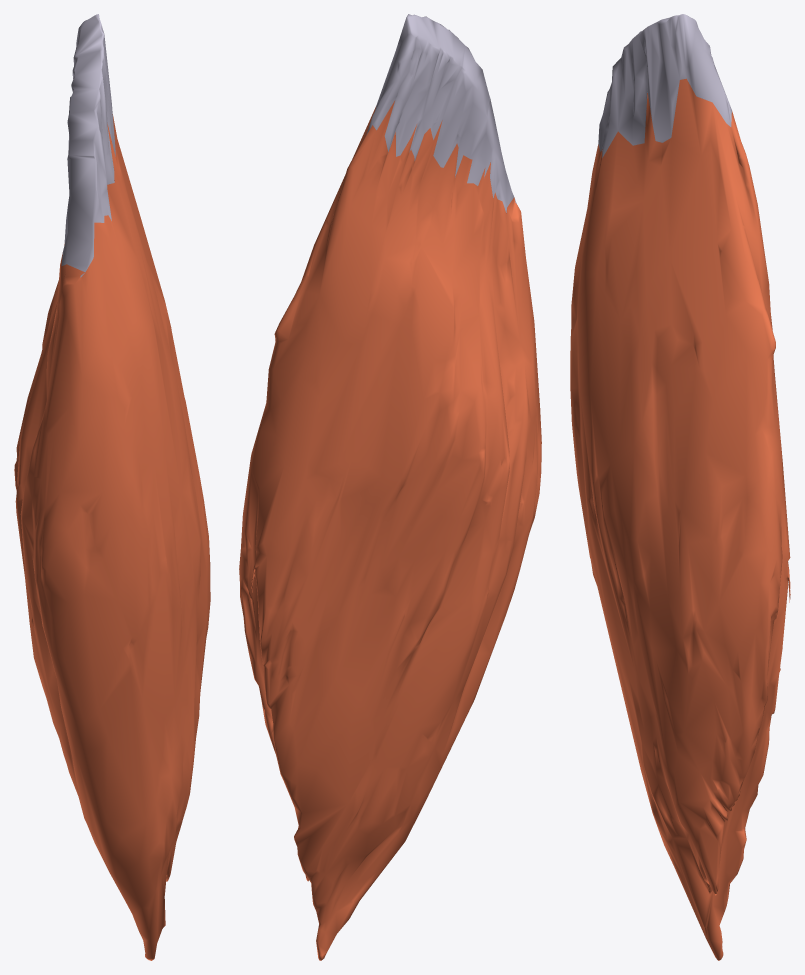
Rendered from Tensor_fasciae_latae.l_Generated_Mesh_From_X3D.162.glb.
3 renders of one model, left to right at view 1: azimuth 30°, elevation 25°; view 2: azimuth 150°, elevation 25°; view 3: azimuth 270°, elevation 25°, orthographic. The views are drawn at different scales.
Parts seen in each view (by area): view 1: Tensor_fasciae_latae.l_Generated_Mesh_From_X3D.162; view 2: Tensor_fasciae_latae.l_Generated_Mesh_From_X3D.162; view 3: Tensor_fasciae_latae.l_Generated_Mesh_From_X3D.162.
Boxes of the visible parts, x1,y1,x2,y2 form: Tensor_fasciae_latae.l_Generated_Mesh_From_X3D.162: [14, 14, 210, 960]; Tensor_fasciae_latae.l_Generated_Mesh_From_X3D.162: [239, 14, 541, 960]; Tensor_fasciae_latae.l_Generated_Mesh_From_X3D.162: [570, 14, 790, 960].
Bounding box in the file's own units: 0.0391 × 0.1615 × 0.0352.
